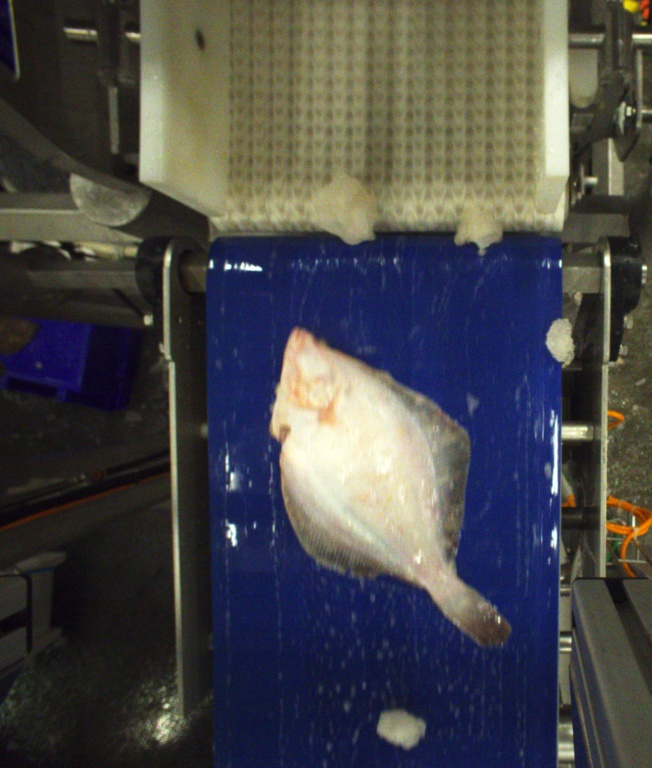PLE: (270, 327, 519, 649)
